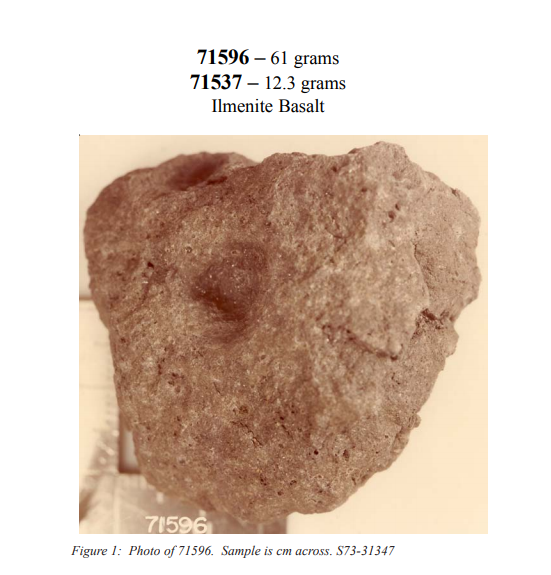Basalt: (75, 148, 479, 523), (186, 246, 408, 467)
